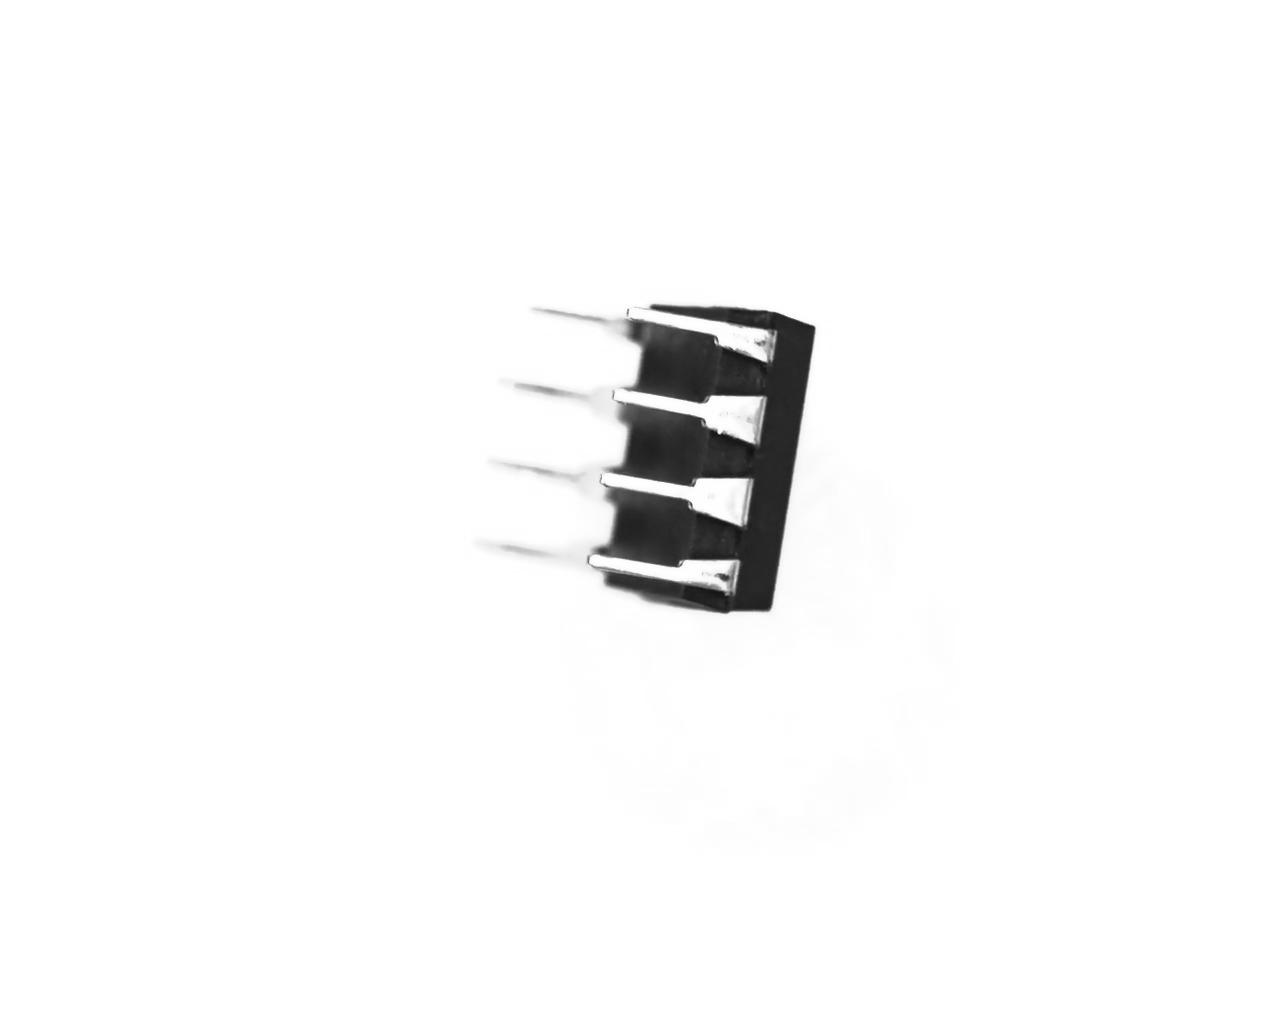Leg: (605, 376, 771, 452), (621, 300, 786, 370), (594, 466, 753, 534), (489, 439, 622, 505), (585, 550, 747, 603), (509, 367, 630, 430), (538, 297, 646, 349), (489, 536, 596, 580)
